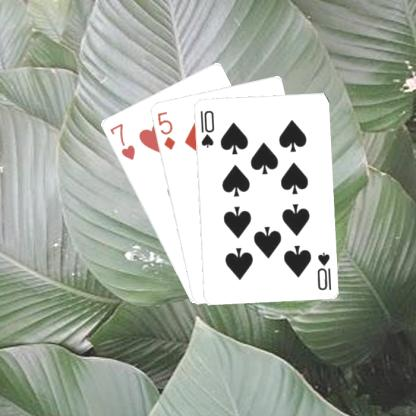10S: (197, 107, 215, 149), (314, 249, 332, 291)
5D: (154, 109, 176, 151)
7H: (106, 120, 136, 162)
